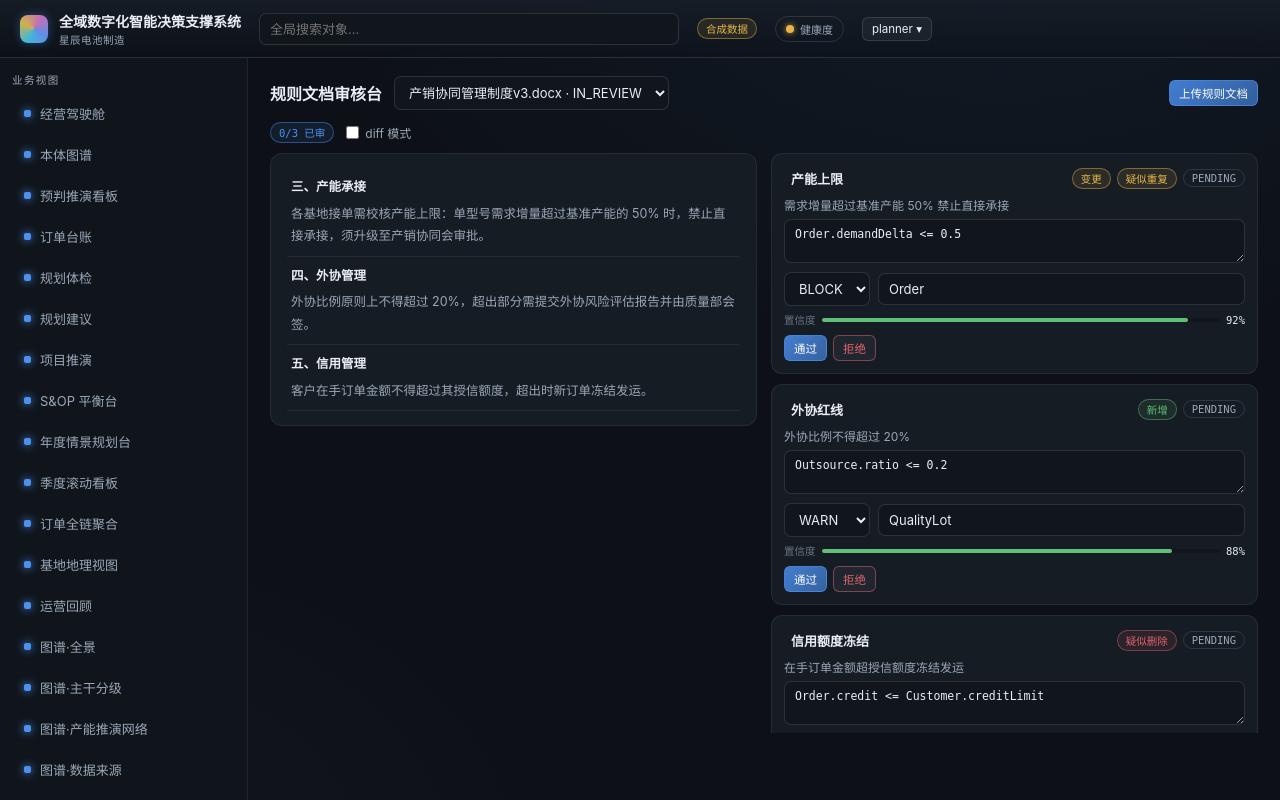
Test case: F9 · 规则文档审核台 › sourceQuote 高亮对照；EDIT_APPROVE 修改 expression 后提交体正确
Check: the text with test id "dup-badge" reads "疑似重复", box x1=1126 y1=172 x2=1168 y2=184
Check: the text "变更" is shown, box x1=1072 y1=168 x2=1111 y2=188
# 点击候选 → 左侧对应段落高亮 sourceQuote
Click the button with test id "candidate-cand-1".
click(1014, 264)  # box x1=771 y1=153 x2=1258 y2=374
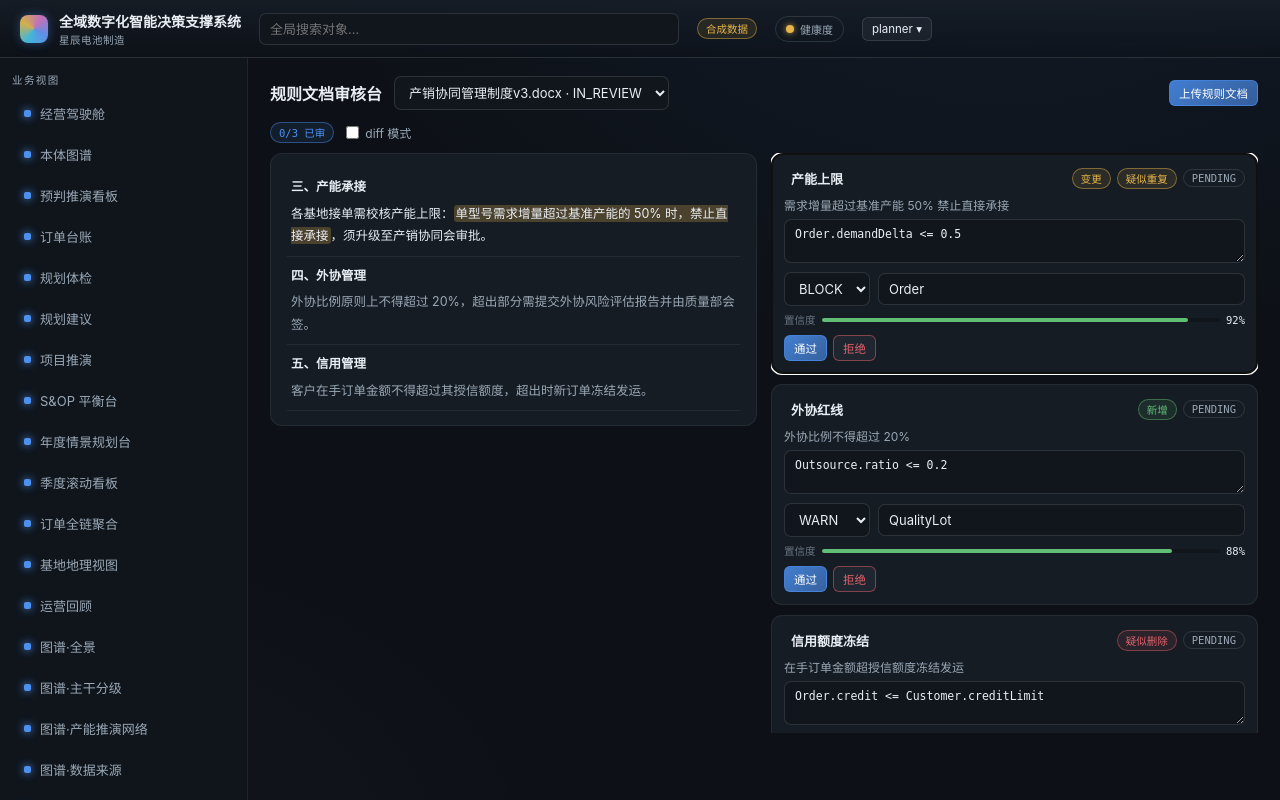
Check: the text with test id "source-quote-highlight" reads "单型号需求增量超过基准产能的 50% 时，禁止直接承接", box x1=291 y1=206 x2=728 y2=243
# 修改 expression → 按钮变为「修改后通过」→ 提交体含 patch
Replace the text in the 1st text box named "expression" with "Order.demandDelta <= 0.4" at (1014, 241), box x1=784 y1=219 x2=1245 y2=263
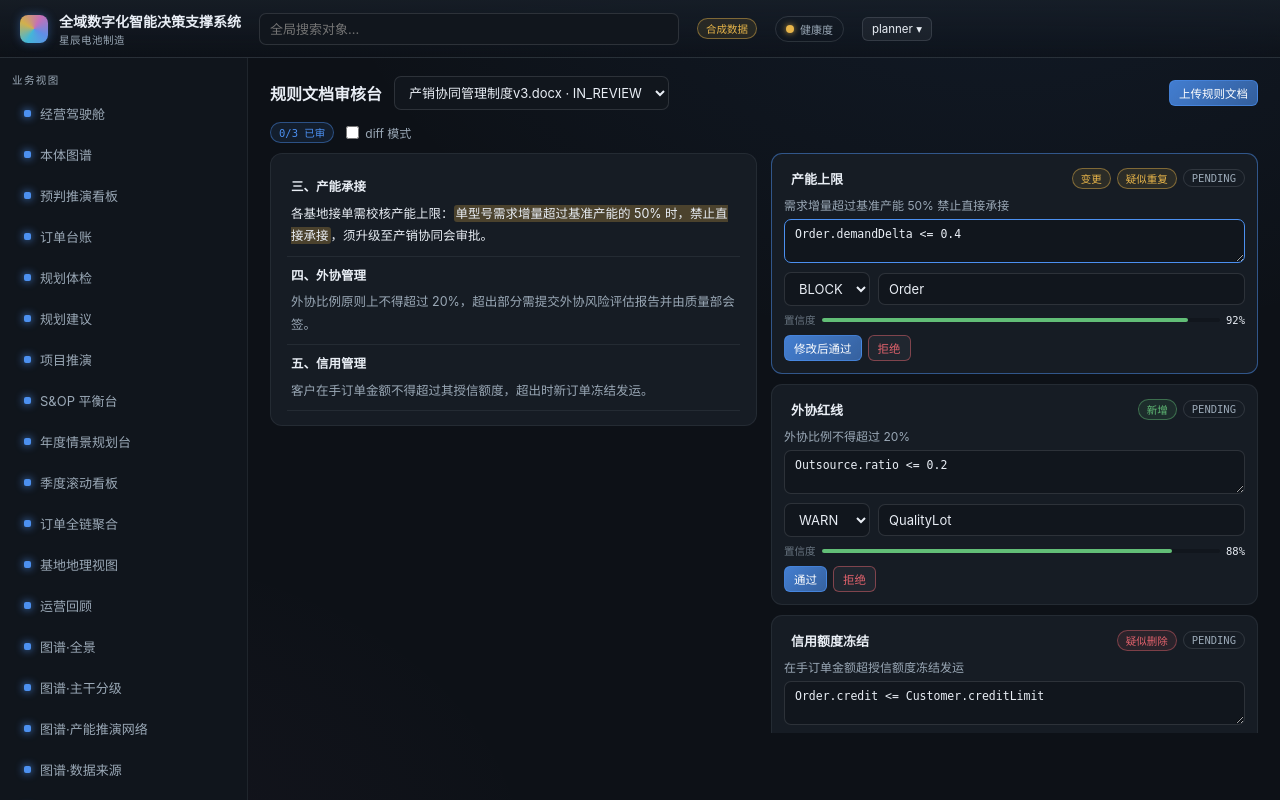
Click the button "修改后通过".
click(823, 348)  # box x1=784 y1=335 x2=862 y2=361
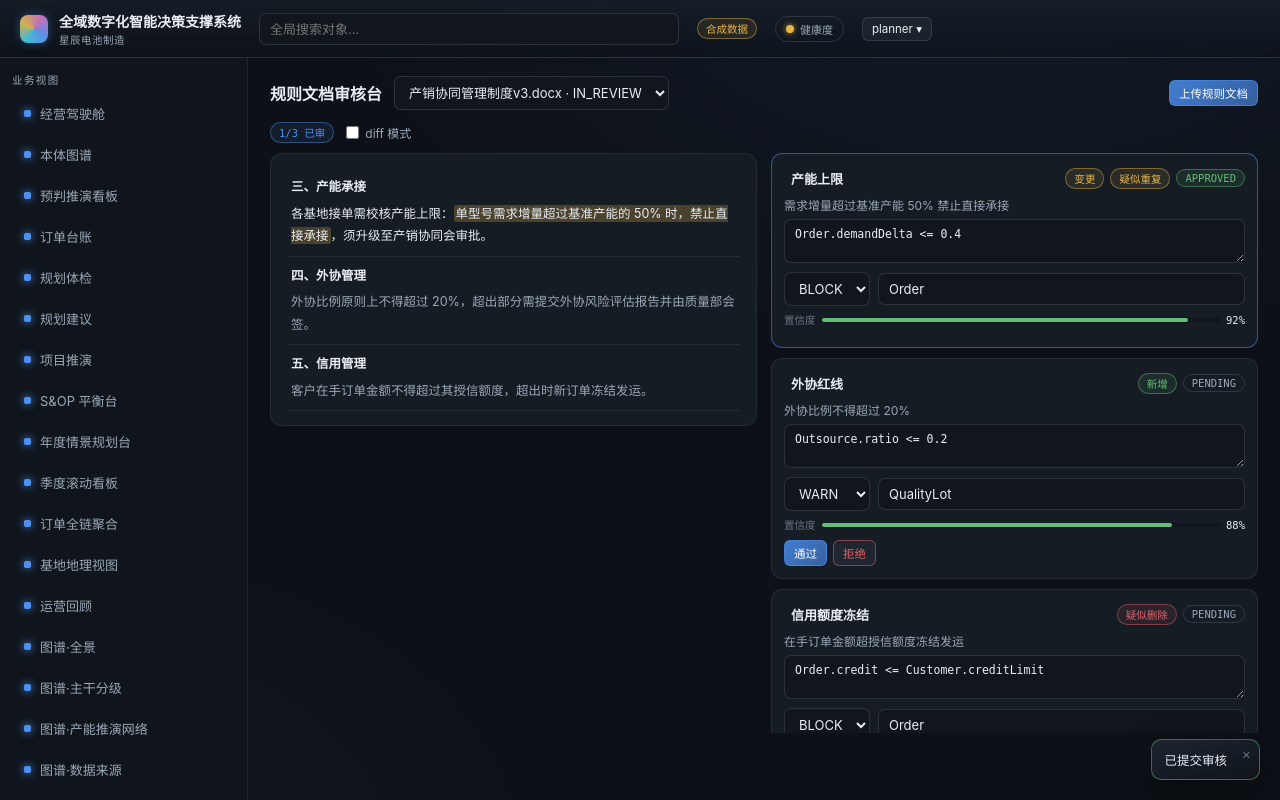
# diff 模式分组
Click the checkbox labelled "diff 模式".
click(353, 132)  # box x1=346 y1=126 x2=359 y2=139
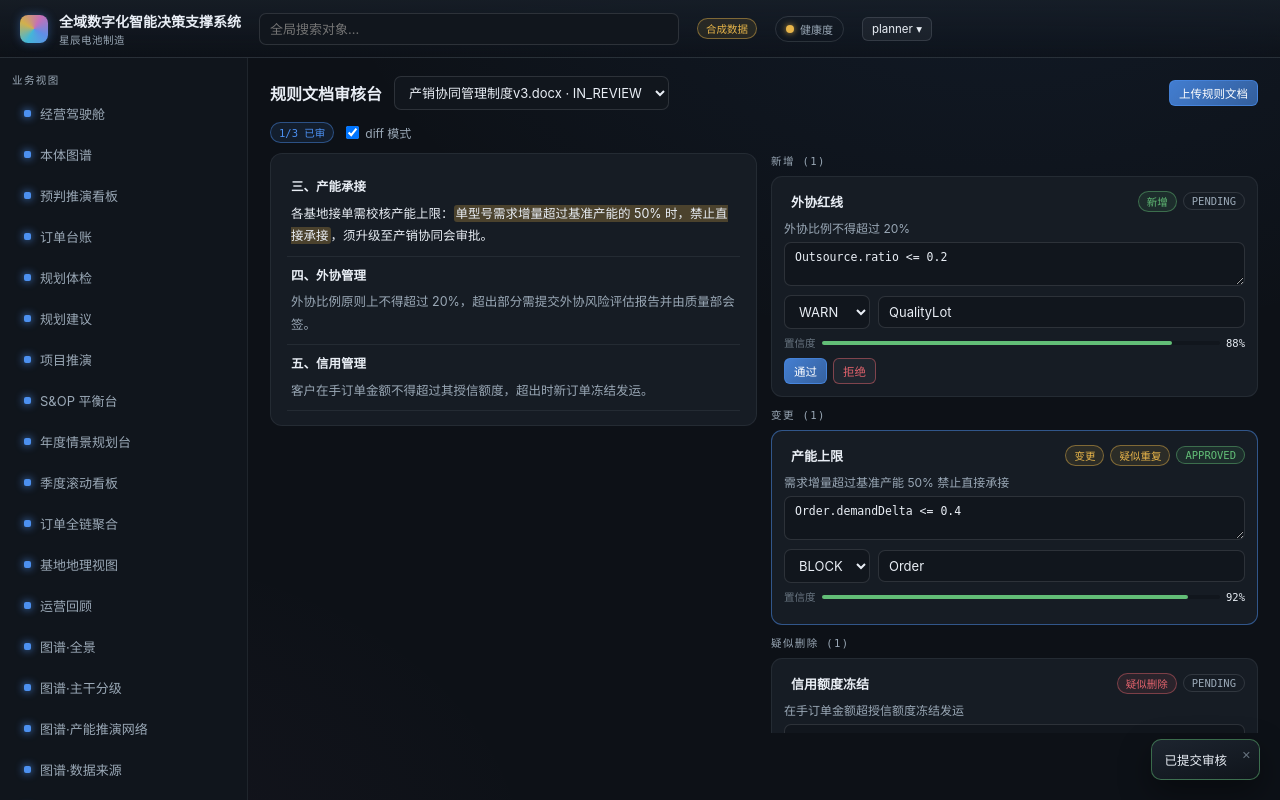
Check: the text "新增 (1)" is shown, box x1=771 y1=155 x2=826 y2=167
Check: the text "疑似删除 (1)" is shown, box x1=771 y1=637 x2=850 y2=649
